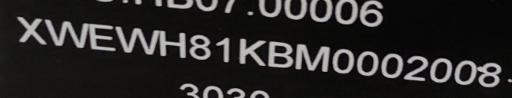letter: (114, 22, 162, 56), (44, 17, 88, 48), (294, 42, 330, 74), (158, 28, 188, 60), (237, 35, 265, 69), (267, 38, 293, 74), (16, 14, 46, 45), (87, 21, 113, 53), (476, 60, 504, 89), (404, 52, 430, 83), (428, 52, 452, 83), (453, 57, 477, 88), (356, 45, 378, 78), (188, 32, 212, 62), (330, 45, 354, 75), (212, 34, 234, 66), (382, 47, 402, 82)
